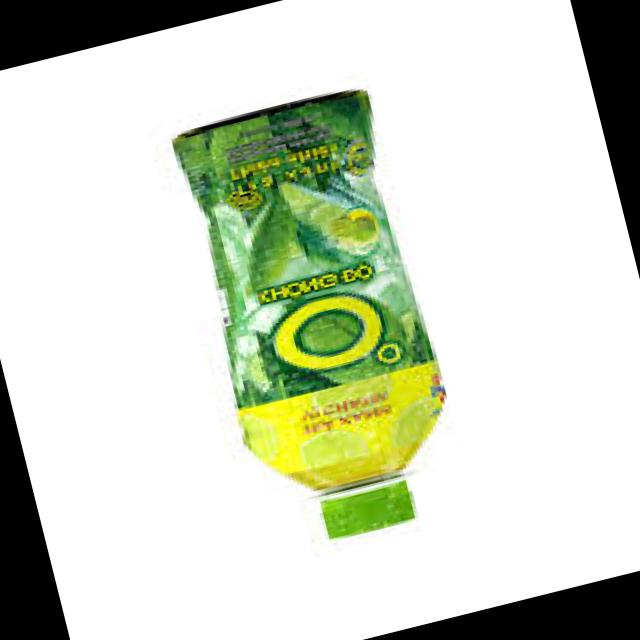tra xanh khong do: (152, 66, 504, 562)
